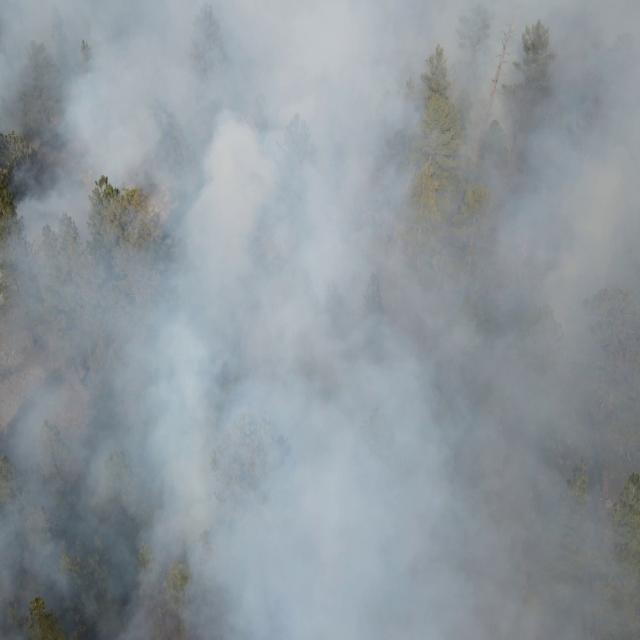fire: (514, 234, 530, 278), (45, 109, 62, 129)
smoke: (0, 0, 640, 640)
